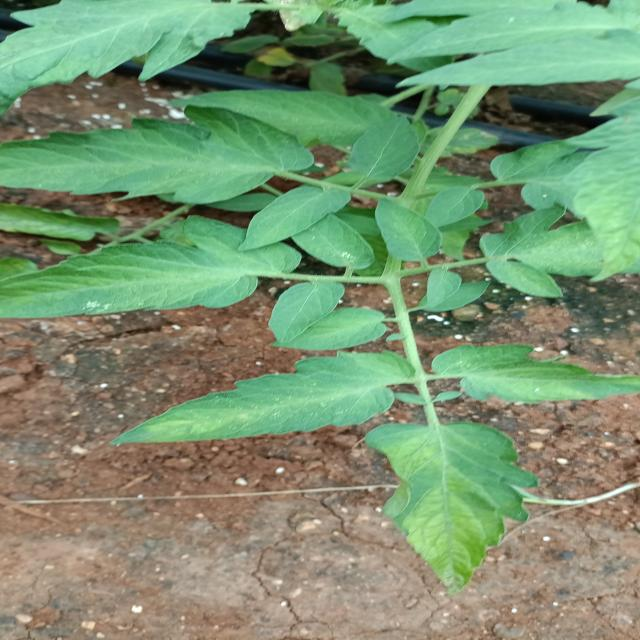Healthy Leaf: (114, 349, 407, 467), (345, 418, 532, 601), (5, 111, 313, 215), (1, 220, 271, 322), (437, 341, 626, 415), (261, 274, 354, 341), (376, 188, 440, 269)
